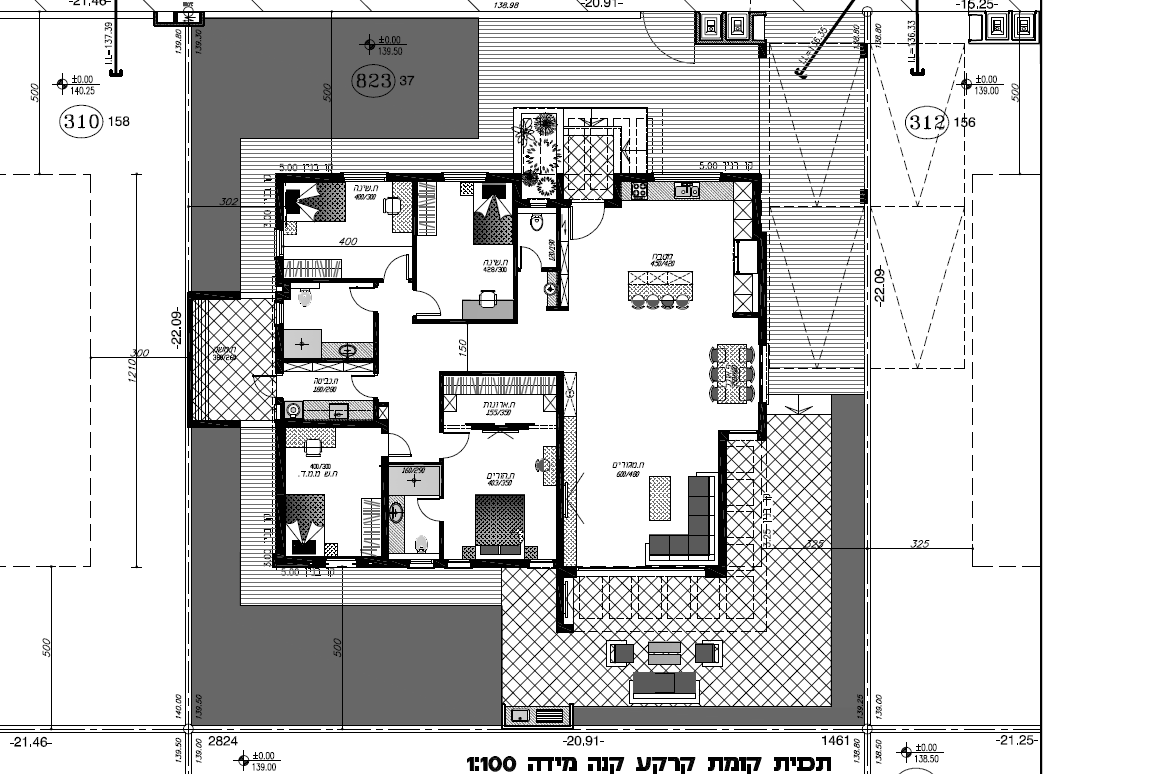room: (439, 371, 563, 570), (275, 419, 388, 569), (412, 173, 518, 324), (275, 173, 418, 282), (274, 278, 380, 363)
